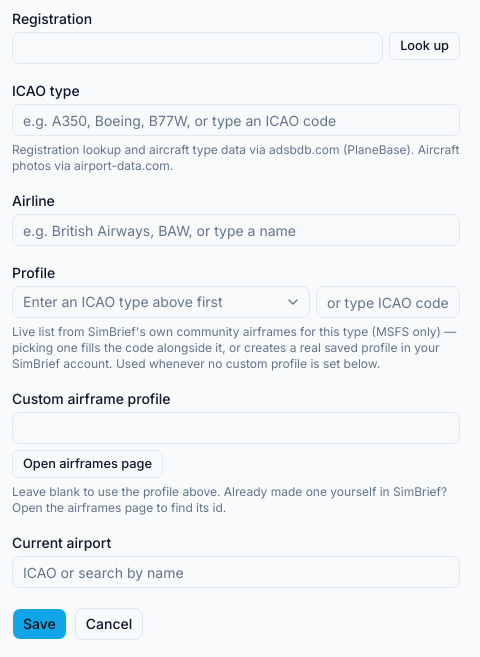
Test: AircraftForm › ignores a stale SimBrief airframe fetch that resolves after the type changed again
Type "A35" into the field with placeholder "e.g. A350, Boeing, B77W, or type an ICAO code" at (236, 120), box [12,104,460,136]
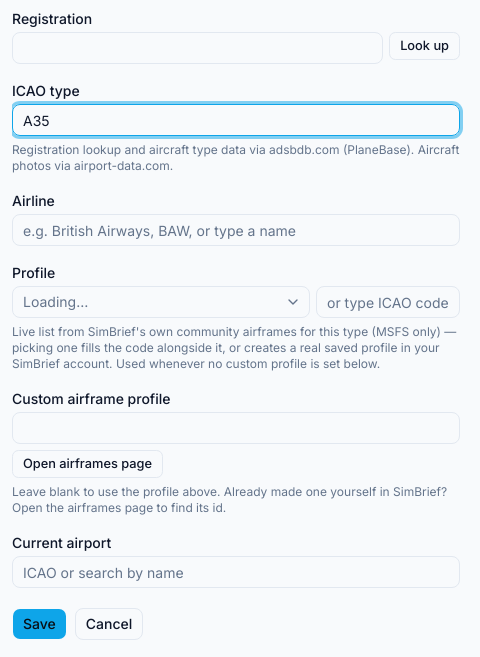
Replace the text in the 2nd field with "B77W" at (236, 120), box [12,104,460,136]
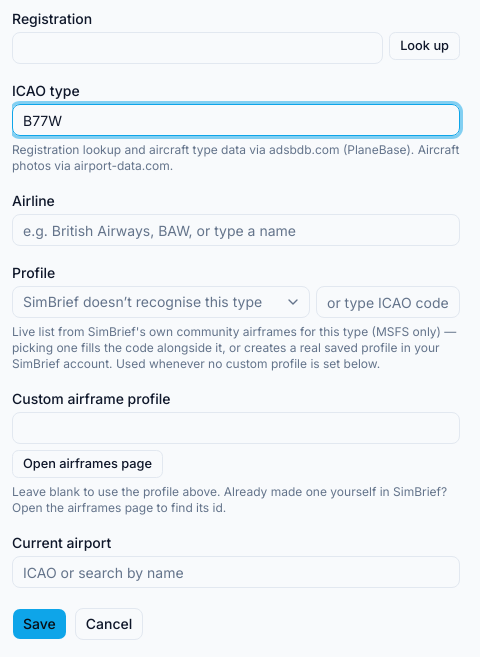
Check: the text "SimBrief doesn’t recognise this type" is shown, box [23,292,262,312]
